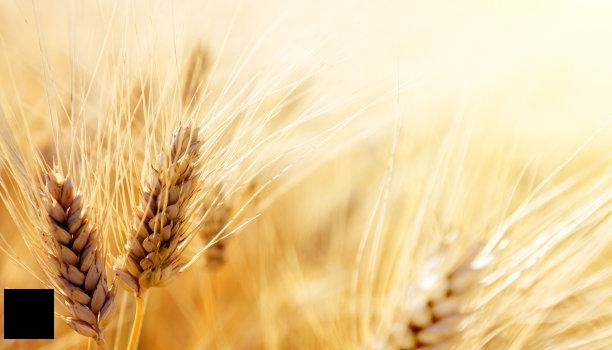wheat: (125, 66, 234, 317), (21, 134, 118, 335)
